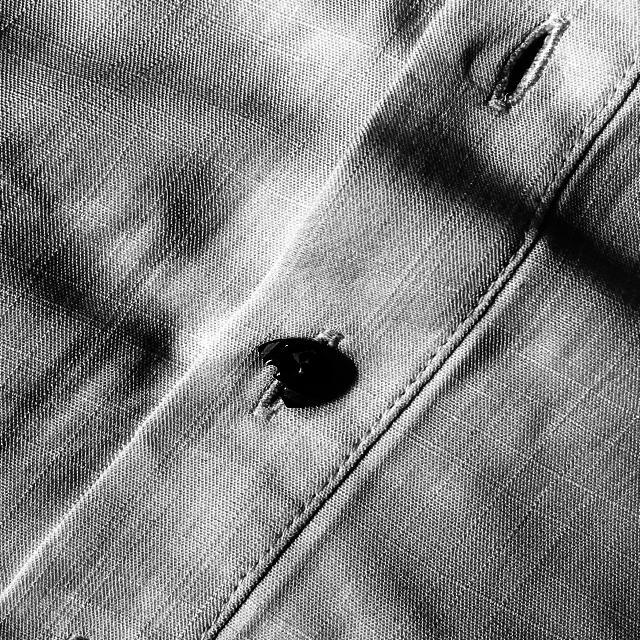Broken_button: (240, 323, 354, 422)
